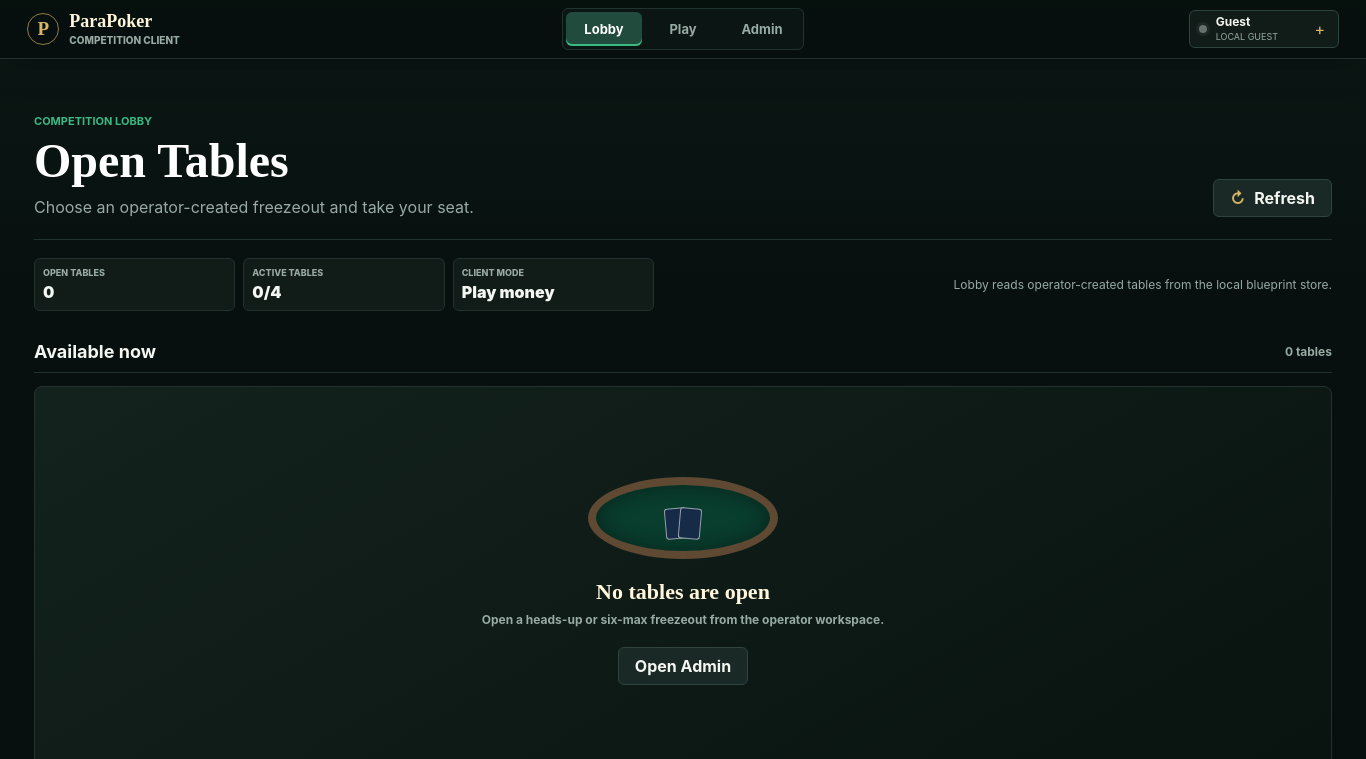
Test: App navigation › opens the local admin screen from the poker client
Click the button "Play": (683, 29) left=645, top=12, right=721, bottom=46
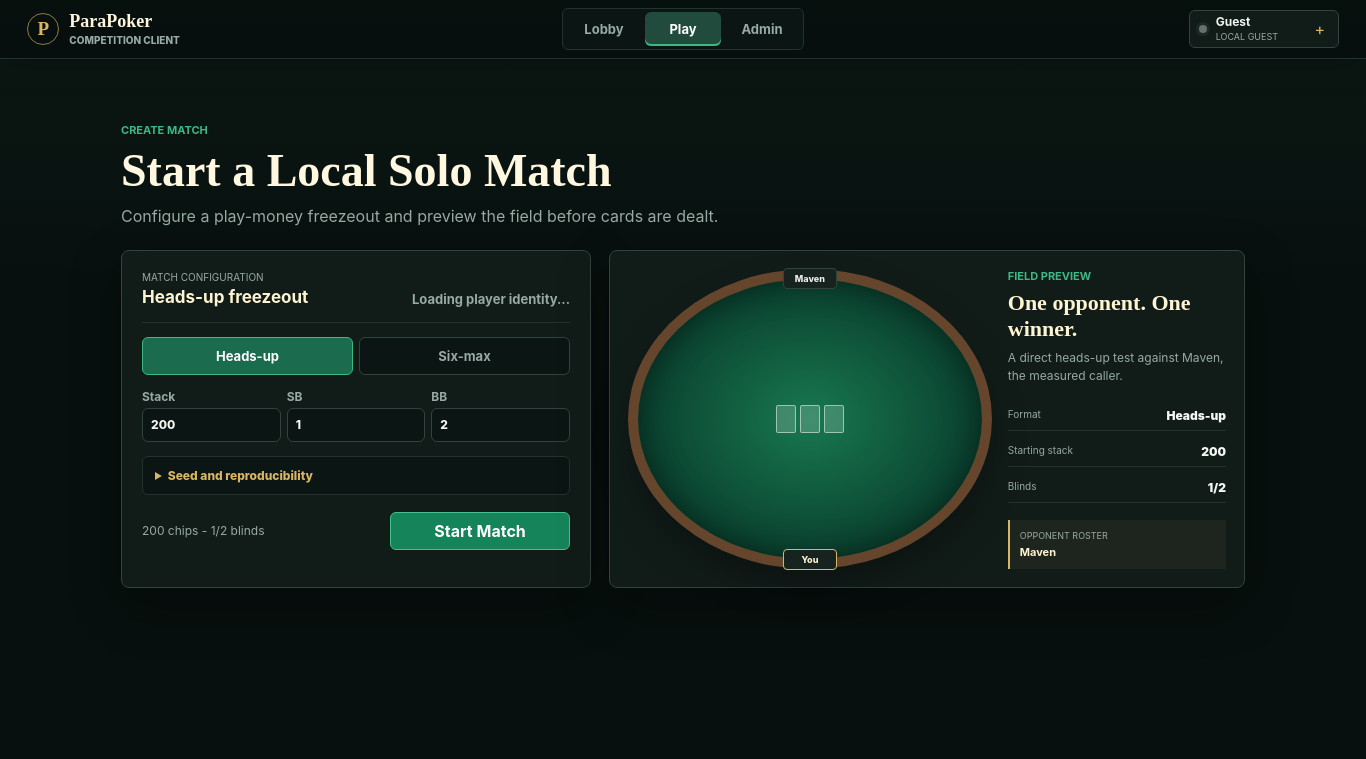
Expected: the element named "Local match setup" is shown, left=121, top=250, right=1245, bottom=588
Click the button "Admin": (762, 29) left=724, top=12, right=800, bottom=46
(page scrolled)
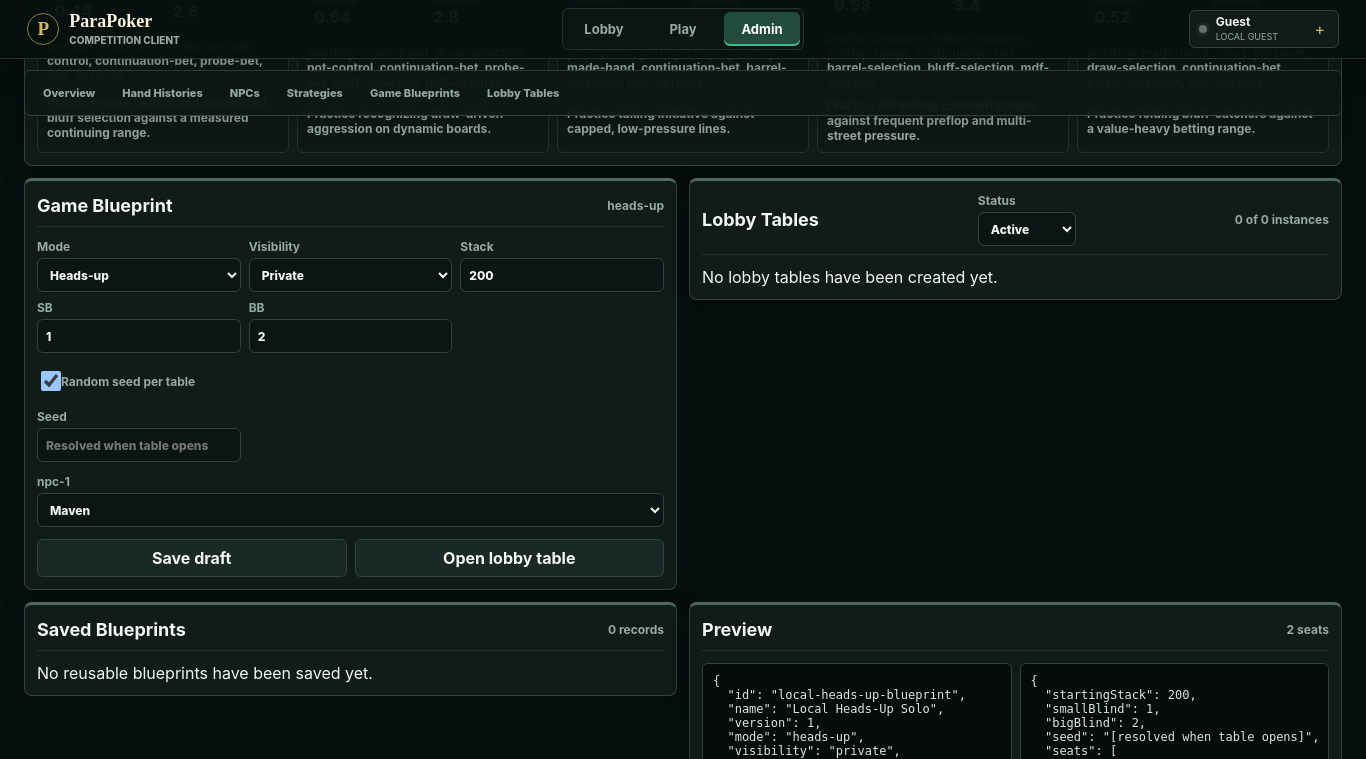
Expected: the element named "Game blueprint builder" is shown, left=24, top=178, right=677, bottom=590
